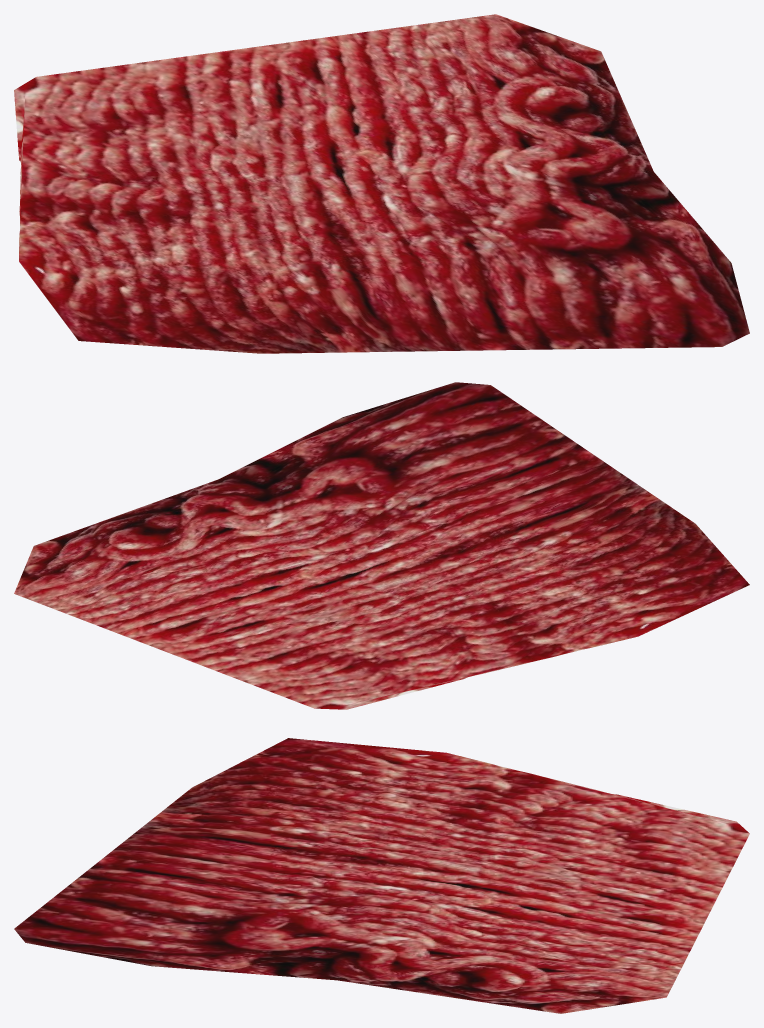
The model's file is kjøttdeig_Test.FBX.
3 renders of one model, top to bottom at view 1: azimuth 30°, elevation 25°; view 2: azimuth 150°, elevation 25°; view 3: azimuth 270°, elevation 25°, orthographic. The views are drawn at different scales.
Parts seen in each view (by area): view 1: Plane001; view 2: Plane001; view 3: Plane001.
Boxes of the visible parts, box(x1,y1,x2,y2) form: Plane001: box(14, 14, 749, 353); Plane001: box(14, 382, 749, 709); Plane001: box(14, 738, 749, 1013).
Bounding box in the file's own units: 115 × 1.42e-14 × 130.
1 material, 1 textured.
